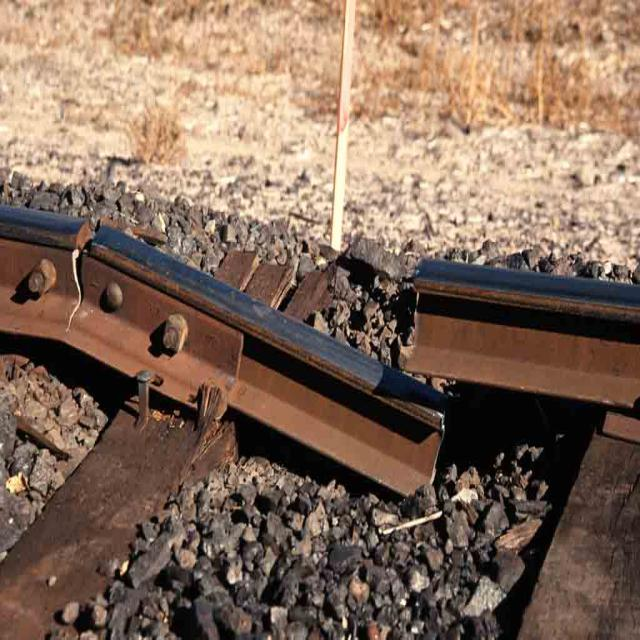defective: (44, 112, 550, 516)
